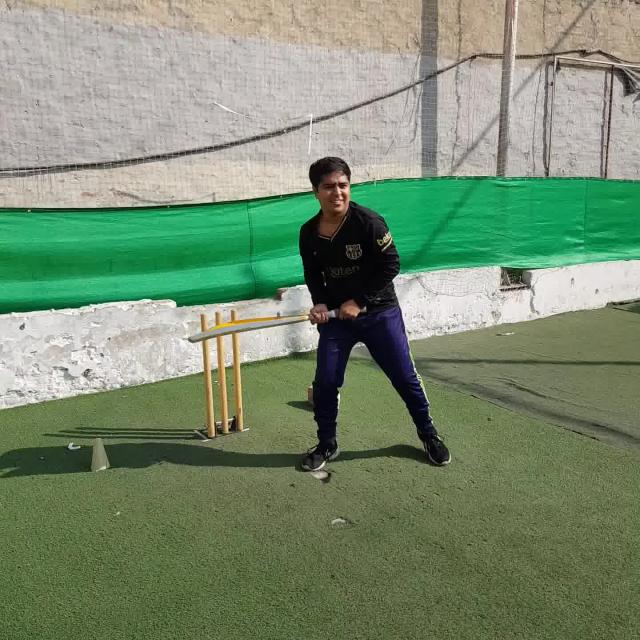bat: (188, 308, 366, 343)
